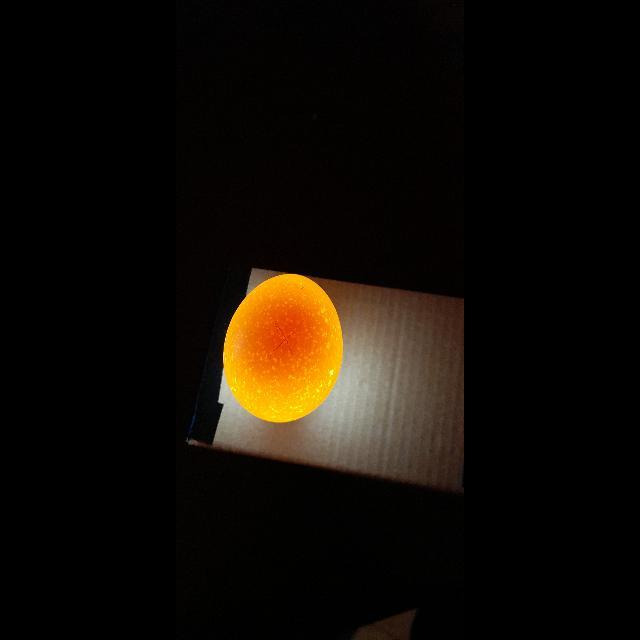AA - Premium: (224, 276, 336, 430)
